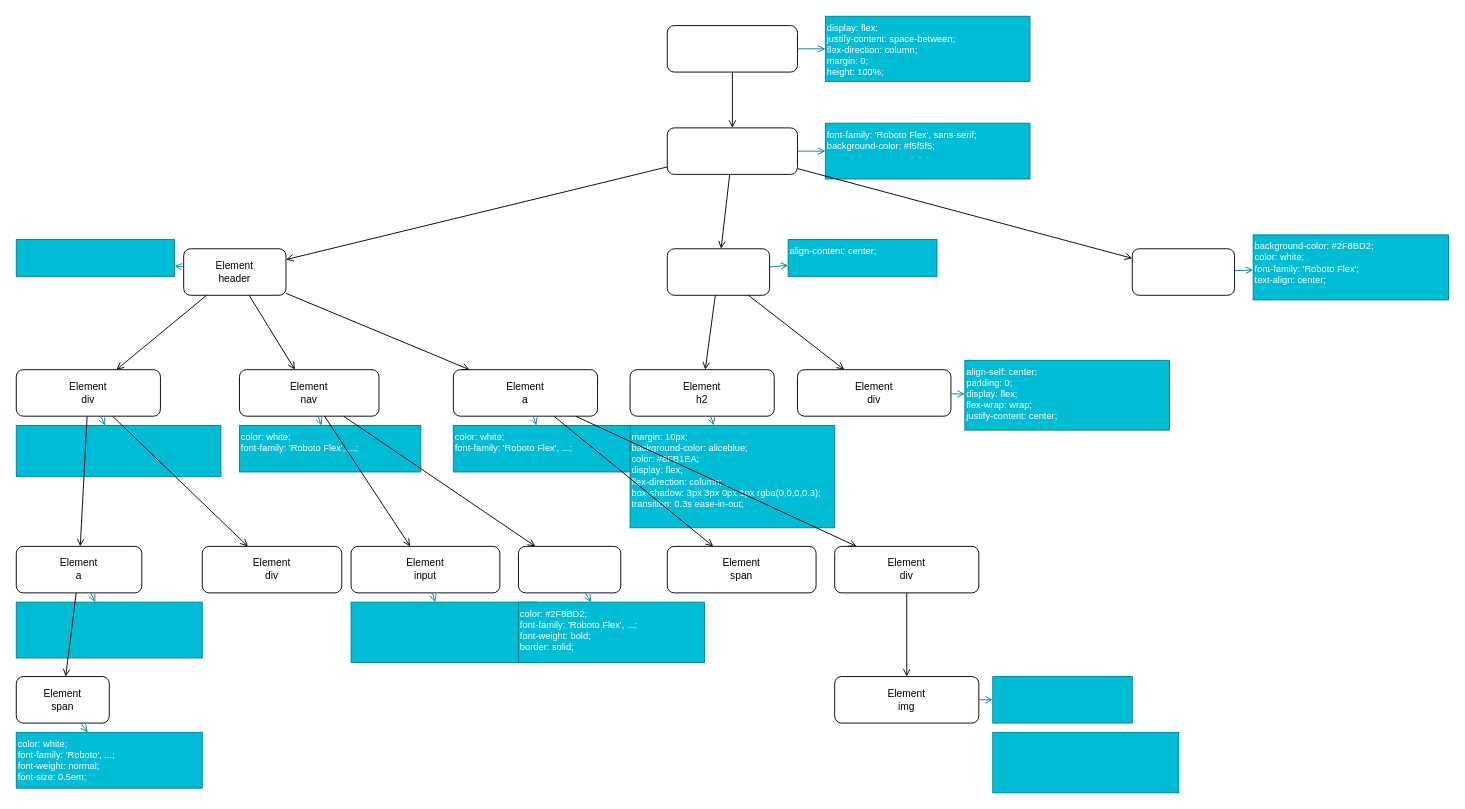
This 1465x809 diagram has some shape labels left out. Each missing label, with the centre of its shape:
background-color: #2F8BD2;: the point at 94,258
color: #2F8BD2; text-align: center; font-family: Arial, ...; font-weight: bold;: the point at 1085,762
color: white; font-family: 'Roboto Flex', ...; height: 25px; width: 150px;: the point at 443,632
color: white; font-family: 'Roboto', ...; font-weight: bold; font-size: 2.5em;: the point at 108,629
display: flex; align-items: center; justify-content: space-between;: the point at 118,451
Element body: the point at 731,150
Element button: the point at 569,569
Element footer: the point at 1183,271
Element html: the point at 731,48
Element section: the point at 718,271
margin: 0 auto; height: 70%;: the point at 1062,699
